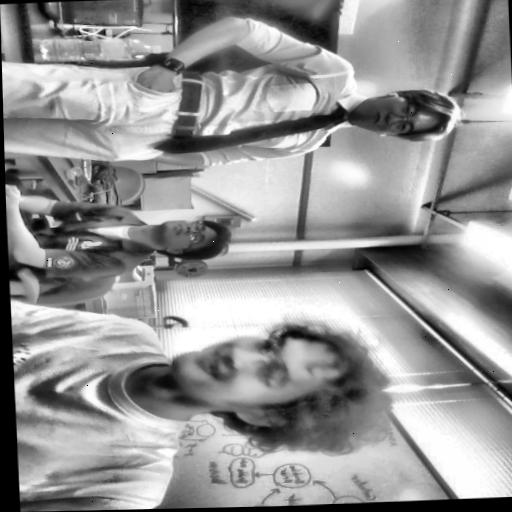Daifuku: (165, 326, 401, 455)
Not Daifuku: (350, 88, 469, 148), (146, 220, 231, 262)
